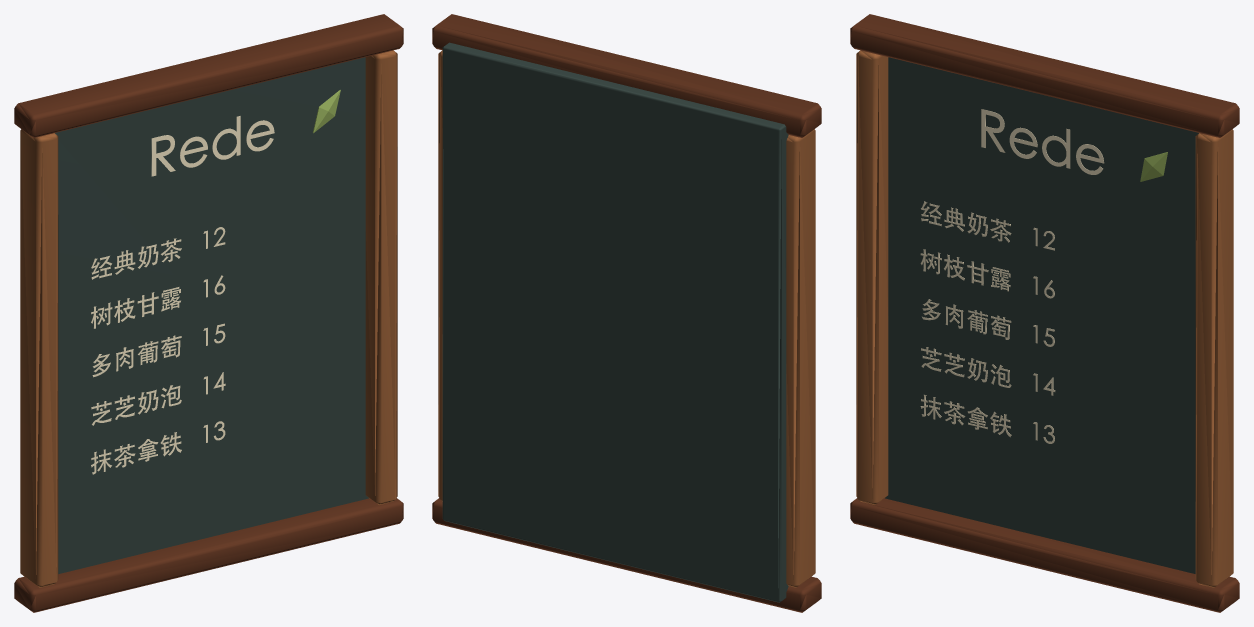
File: menu_blackboard.fbx
3 views of the same model, side by side, from view 1: azimuth 30°, elevation 25°; view 2: azimuth 150°, elevation 25°; view 3: azimuth 330°, elevation 25° (orthographic).
Parts seen in each view (by area): view 1: menu_blackboard; view 2: menu_blackboard; view 3: menu_blackboard.
Boxes of the visible parts, bbox=[...] form: menu_blackboard: bbox=[14, 14, 403, 612]; menu_blackboard: bbox=[432, 14, 821, 612]; menu_blackboard: bbox=[850, 14, 1239, 612].
Size of the model in its own units: 75 by 95.5 by 9.1.
